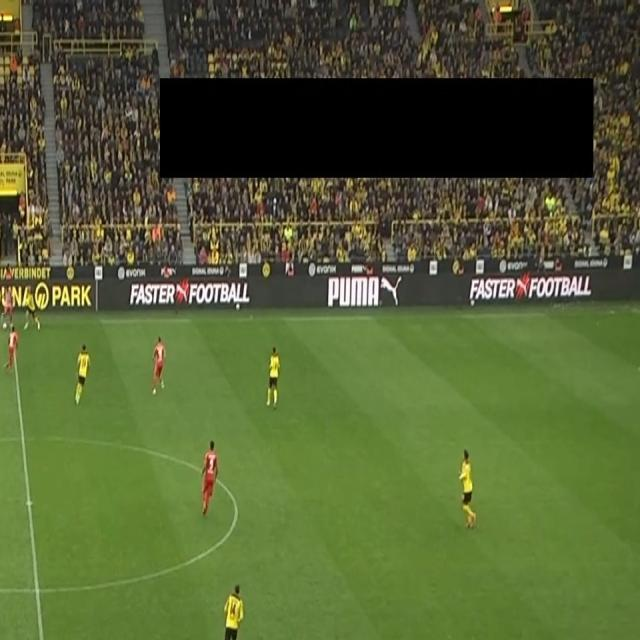ball: (2, 320, 8, 331)
